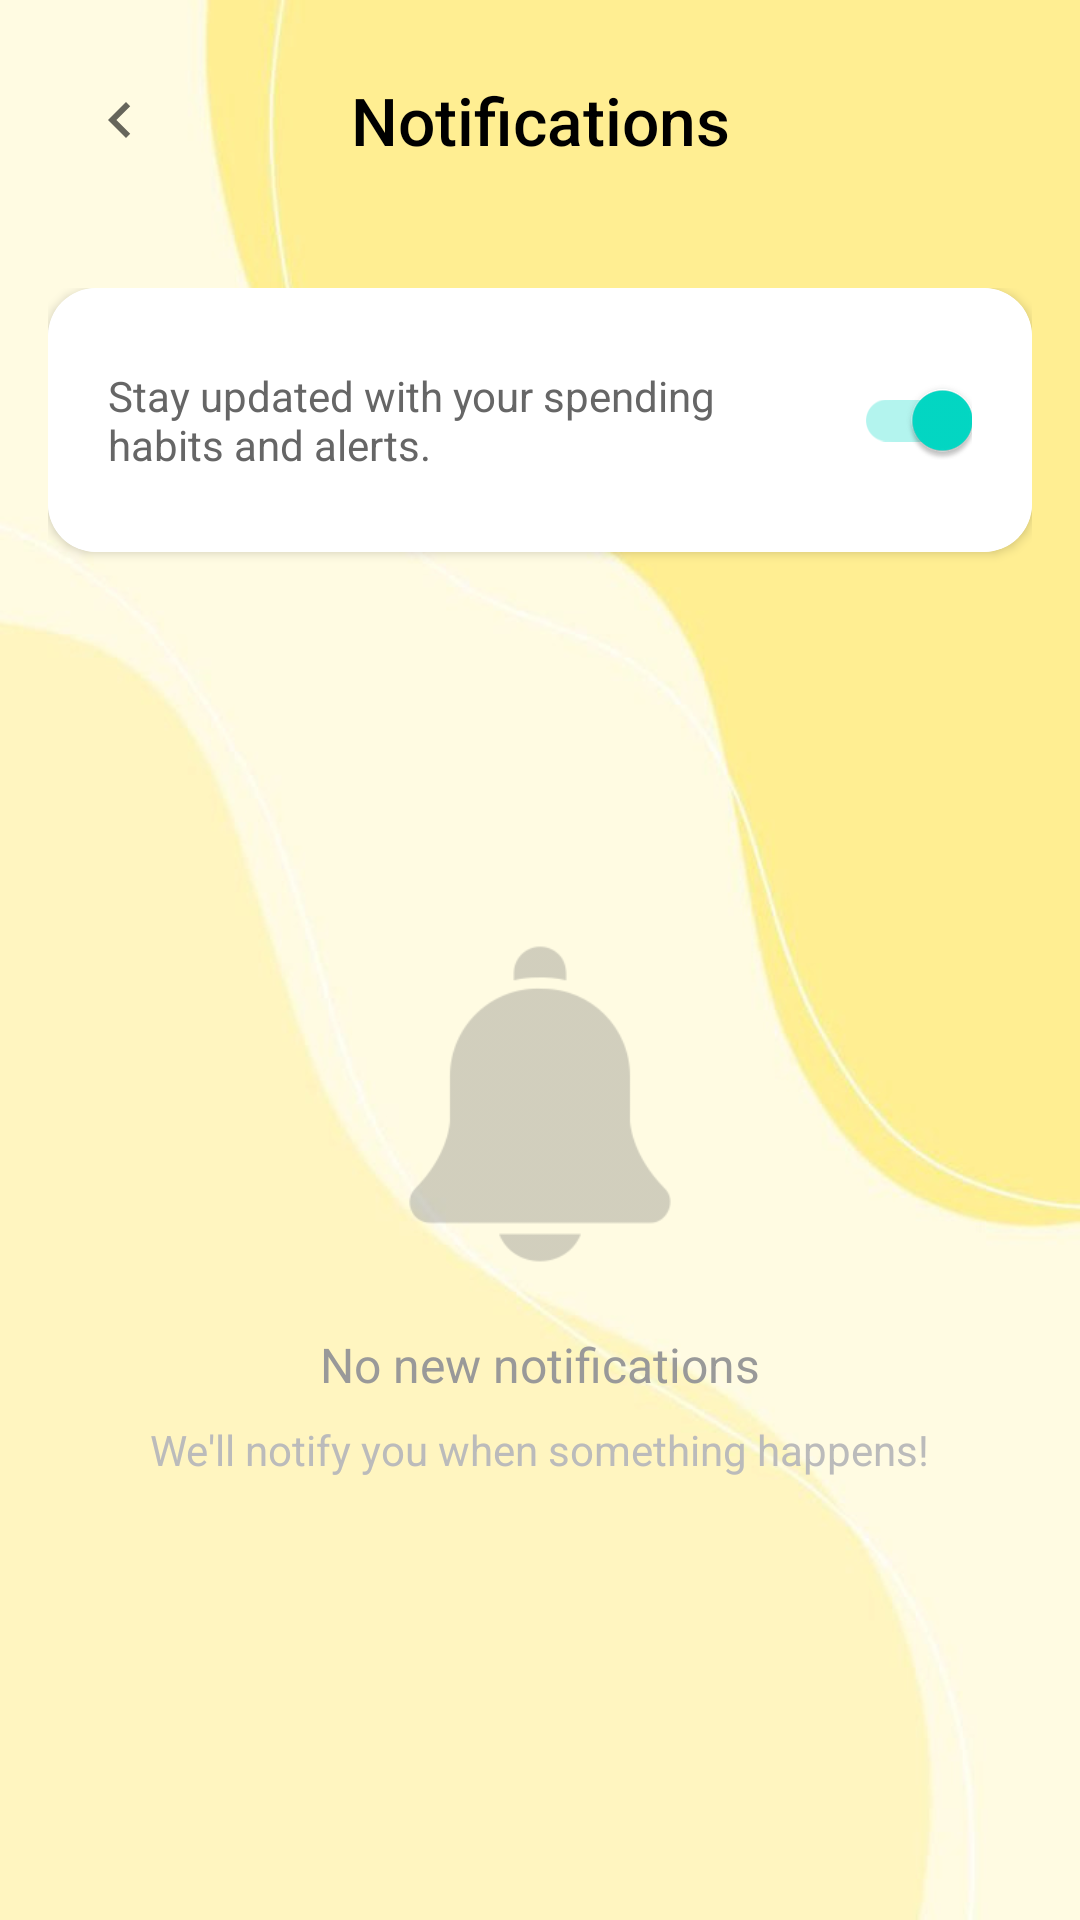

Named icons in this screenshot (1080px x 1920px) and their centers, (x=x, y=y):
backarrow name: (x=119, y=120)
